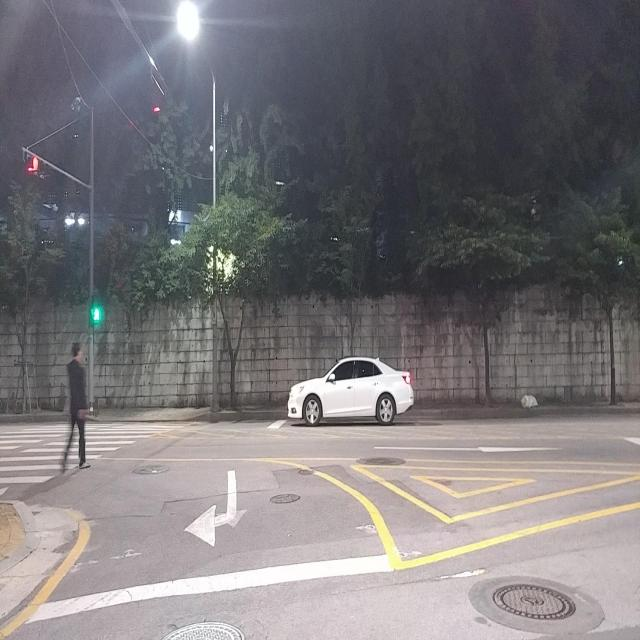초록불: (91, 290, 102, 335)
횡단보도: (0, 425, 174, 497)
